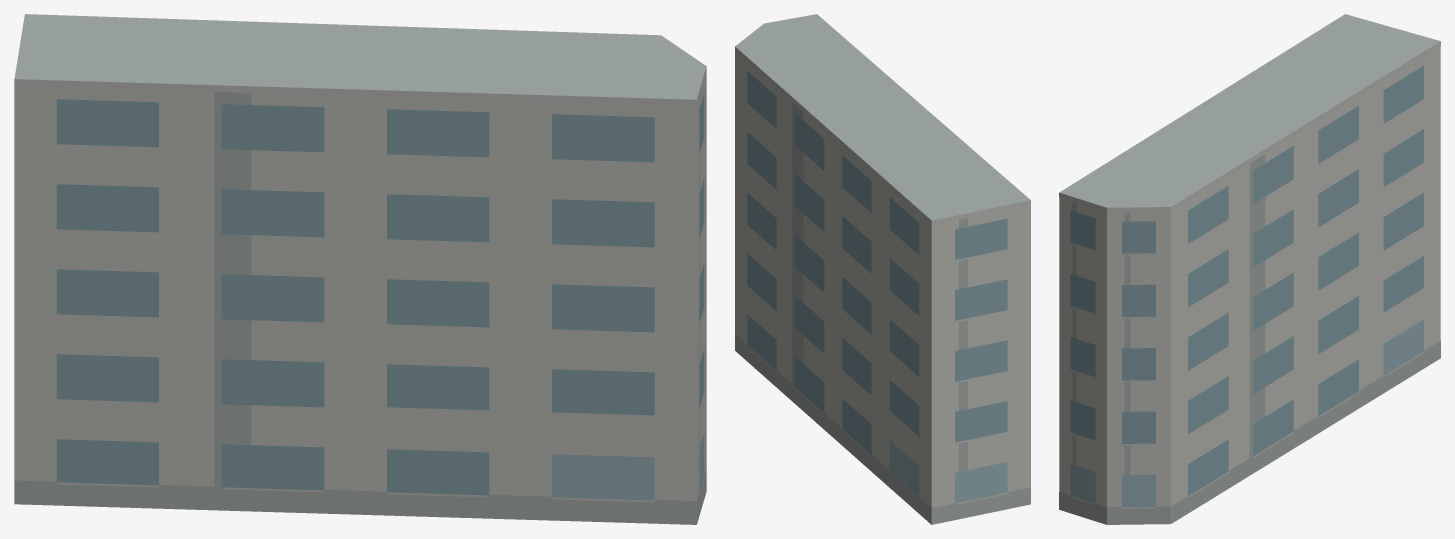
The model's file is residential-05ef5595-317a-4a03-877e-be1c01b672df.glb.
3 views of the same model, side by side, from view 1: azimuth 30°, elevation 25°; view 2: azimuth 150°, elevation 25°; view 3: azimuth 270°, elevation 25° (orthographic). The views are drawn at different scales.
Parts seen in each view (by area): view 1: residential-05ef5595-317a-4a03-877e-be1c01b672df.tmp; view 2: residential-05ef5595-317a-4a03-877e-be1c01b672df.tmp; view 3: residential-05ef5595-317a-4a03-877e-be1c01b672df.tmp.
Boxes of the visible parts, x1,y1,x2,y2 form: residential-05ef5595-317a-4a03-877e-be1c01b672df.tmp: (14, 14, 706, 524); residential-05ef5595-317a-4a03-877e-be1c01b672df.tmp: (735, 14, 1030, 524); residential-05ef5595-317a-4a03-877e-be1c01b672df.tmp: (1059, 14, 1440, 524).
Size of the model in its own units: 20 by 15.25 by 16.64.
